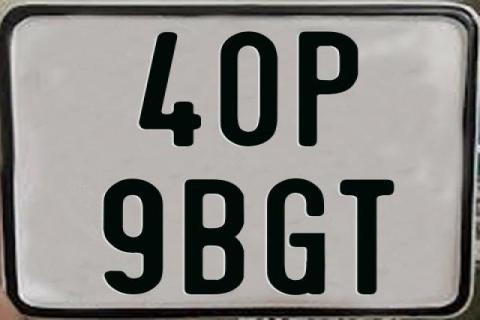0: (138, 30, 205, 146), (218, 31, 278, 149), (101, 178, 161, 294)
B: (184, 177, 249, 297)
G: (266, 176, 326, 294)
P: (299, 29, 358, 147)
T: (340, 177, 394, 296)
